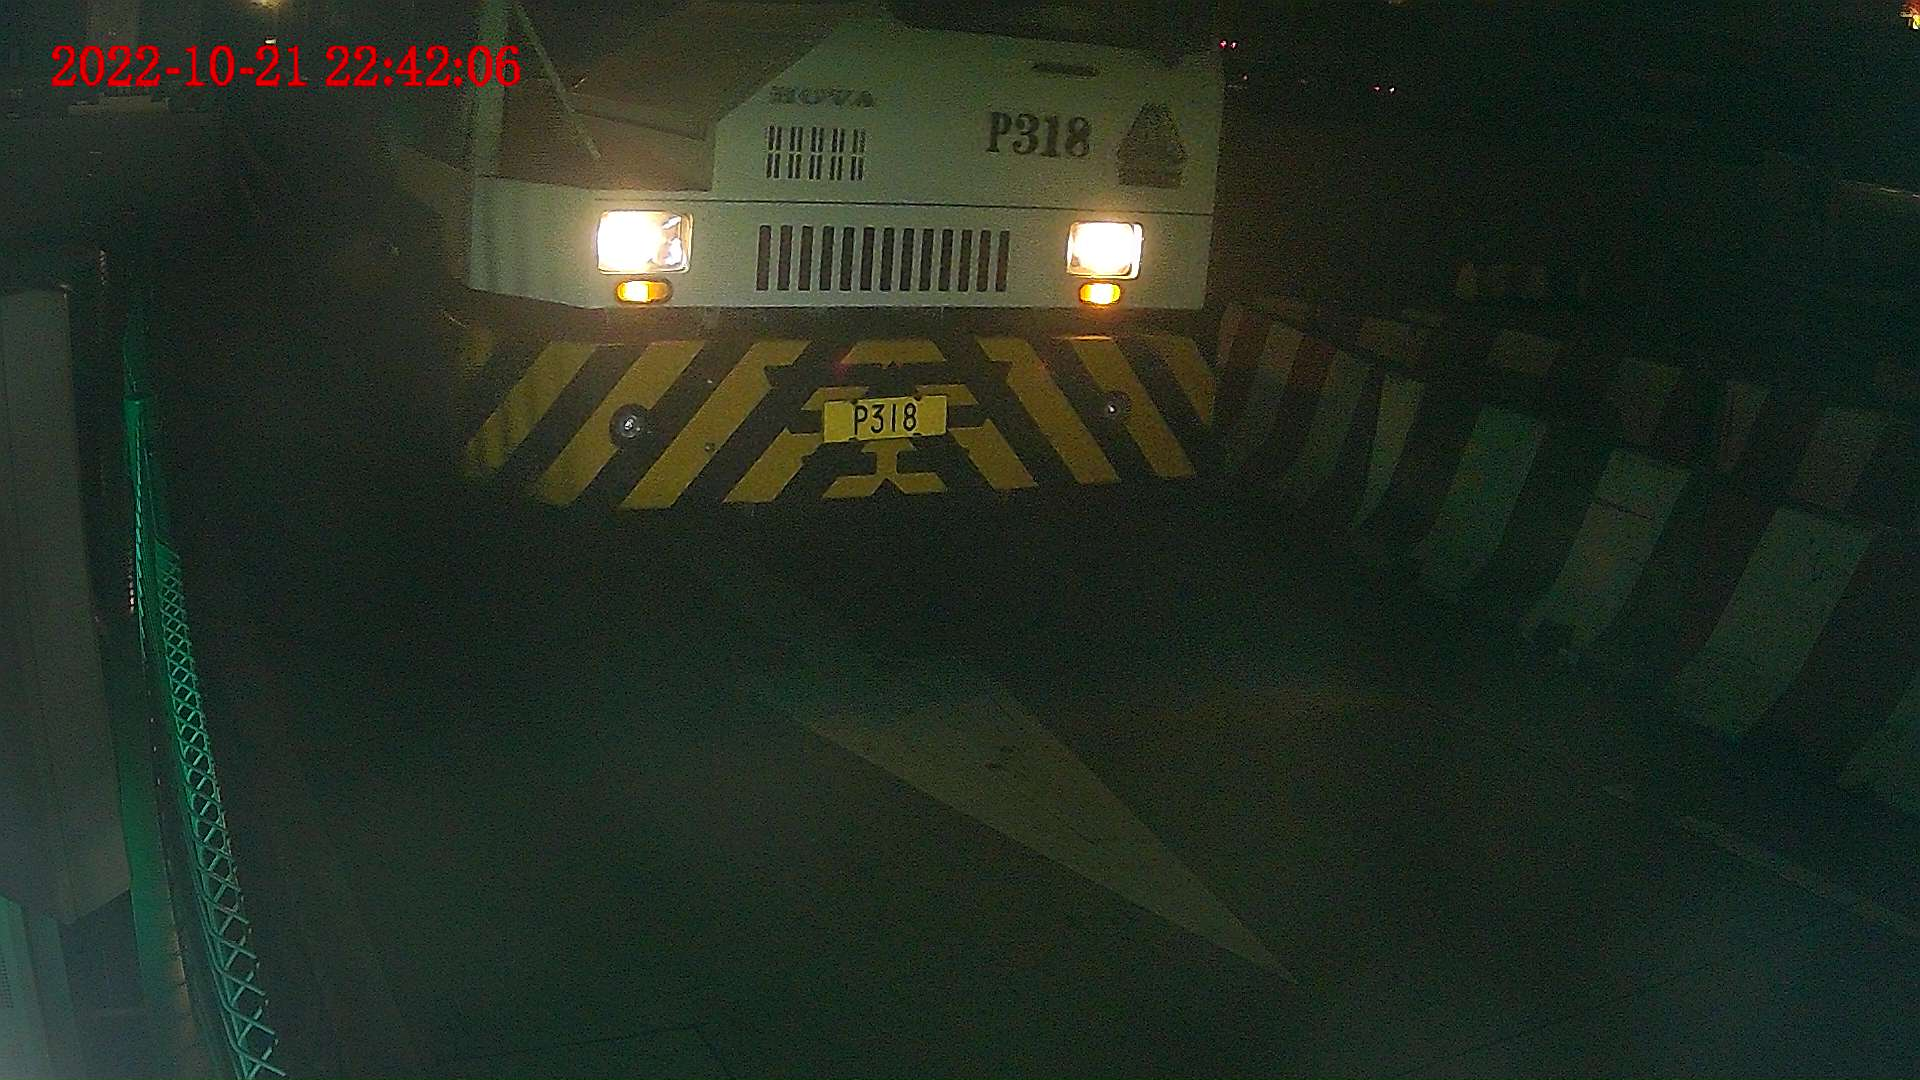head: (354, 1, 1224, 524)
plate: (817, 401, 949, 442)
